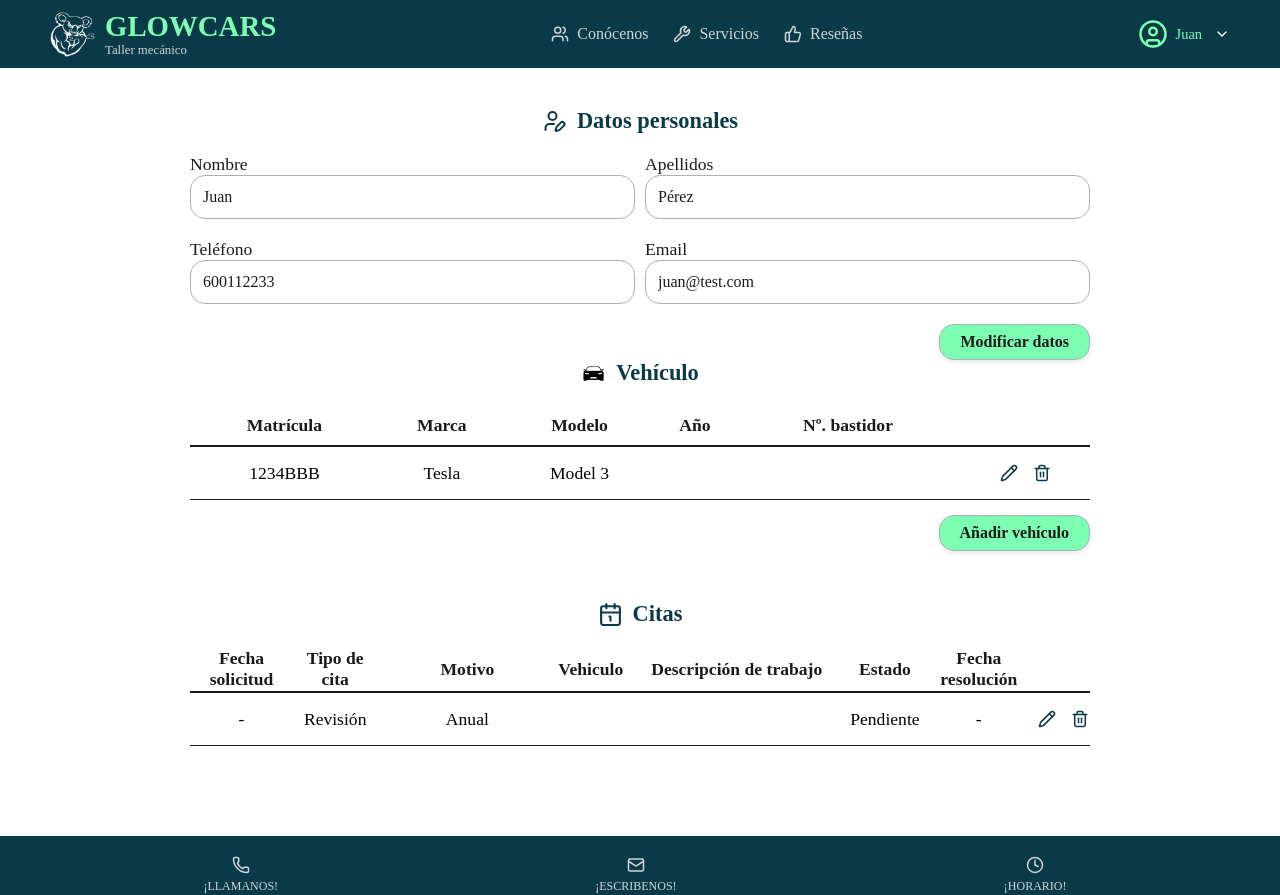
Test: Pruebas en <Perfil /> › debe abrir modal de cancelación de cita y borrarla
Check: the text "Revisión" is shown, box x1=293 y1=692 x2=377 y2=746
Click the 2nd icon with class "lucide-trash2": (1080, 719) x1=1071 y1=710 x2=1089 y2=728
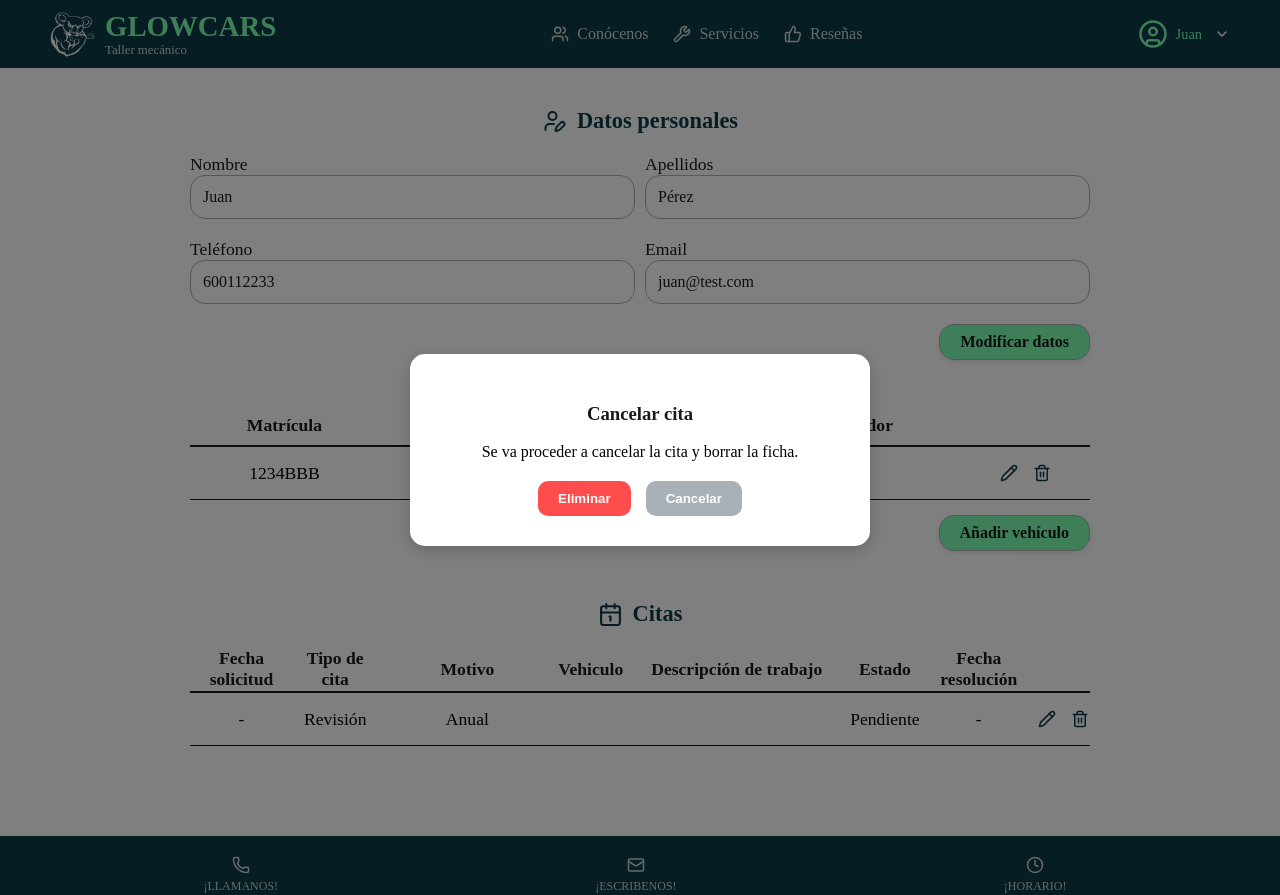
Check: the heading "Cancelar cita" is shown, box x1=587 y1=402 x2=693 y2=424
Click the button "Eliminar": (584, 499) x1=538 y1=481 x2=631 y2=516
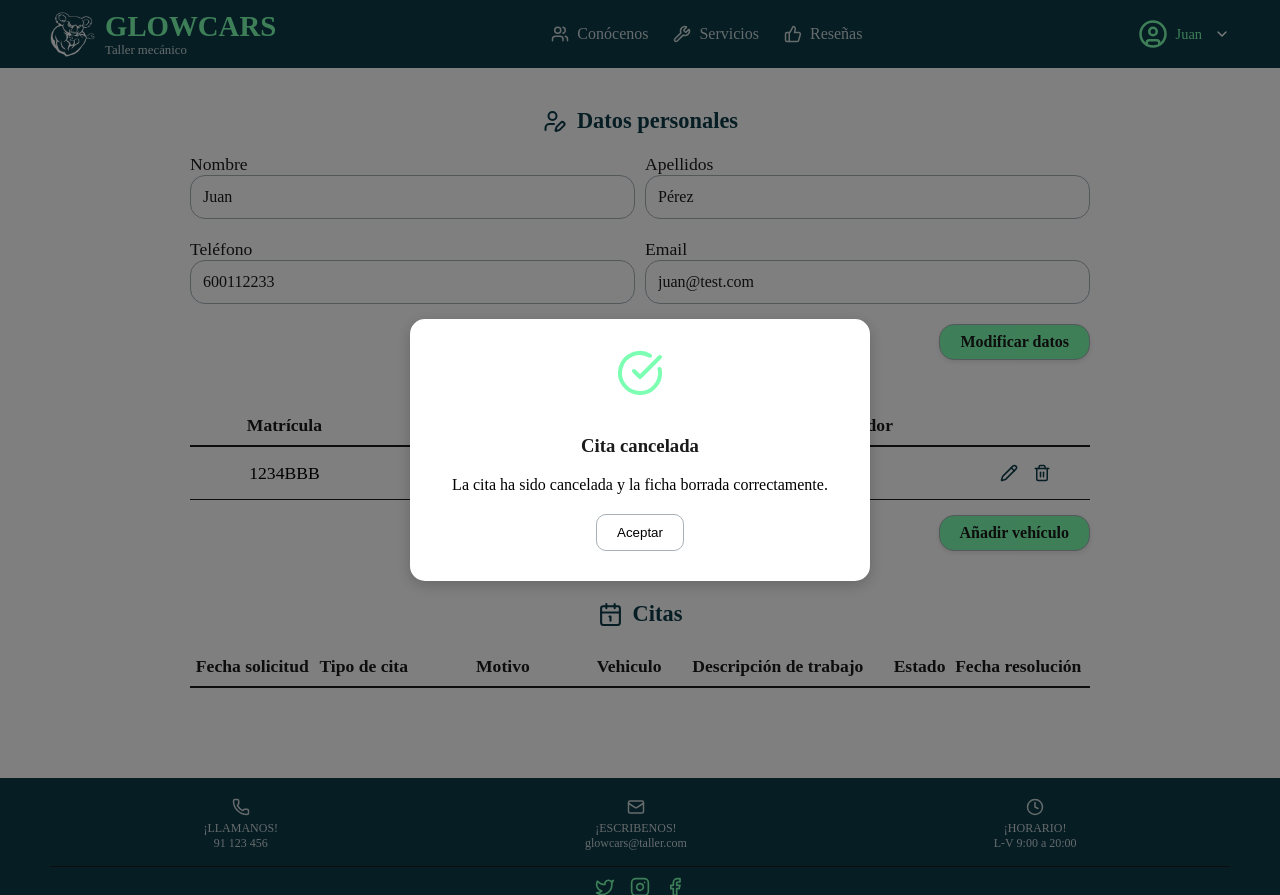
Check: the heading "Cita cancelada" is shown, box x1=581 y1=435 x2=699 y2=456
